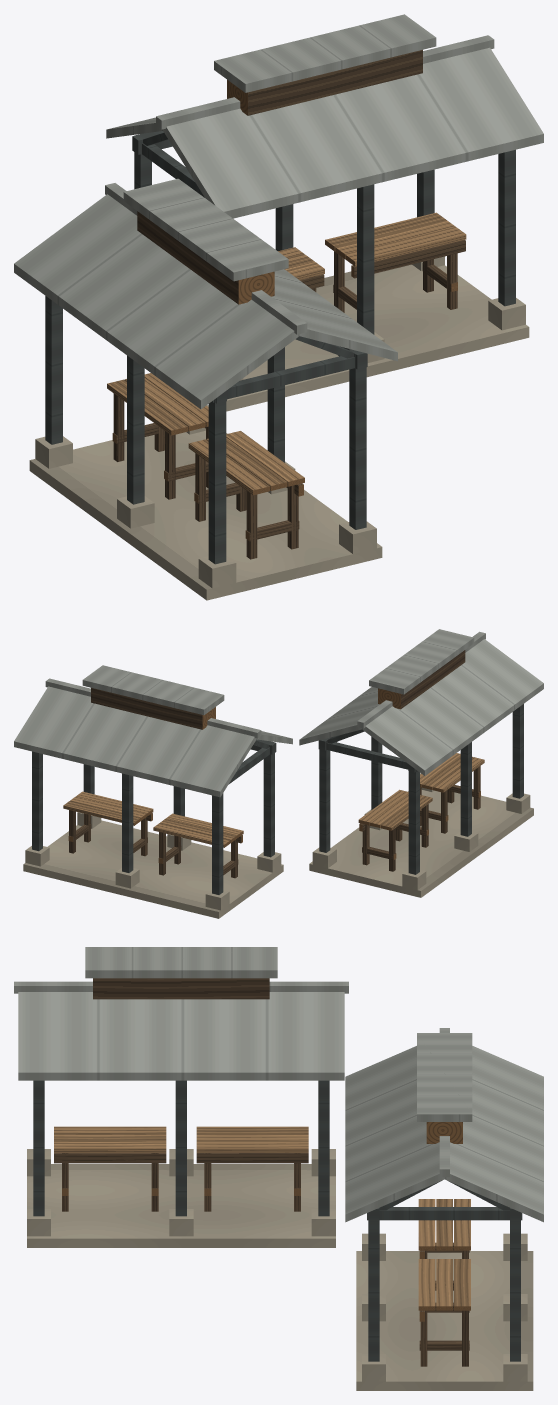
The picture shows the model from 3 angles, top to bottom: view 1: azimuth 30°, elevation 25°; view 2: azimuth 150°, elevation 25°; view 3: azimuth 270°, elevation 25°; orthographic projection. The views are drawn at different scales.
Visible parts, largest first — view 1: kampala; view 2: kampala; view 3: kampala.
Part boxes in pixels (x1,y1,x2,y2): kampala: (14, 14, 543, 600); kampala: (14, 629, 543, 918); kampala: (14, 947, 543, 1390).
Size of the model in its own units: 4.84 by 2.5 by 4.77.
1 material, 1 textured.
